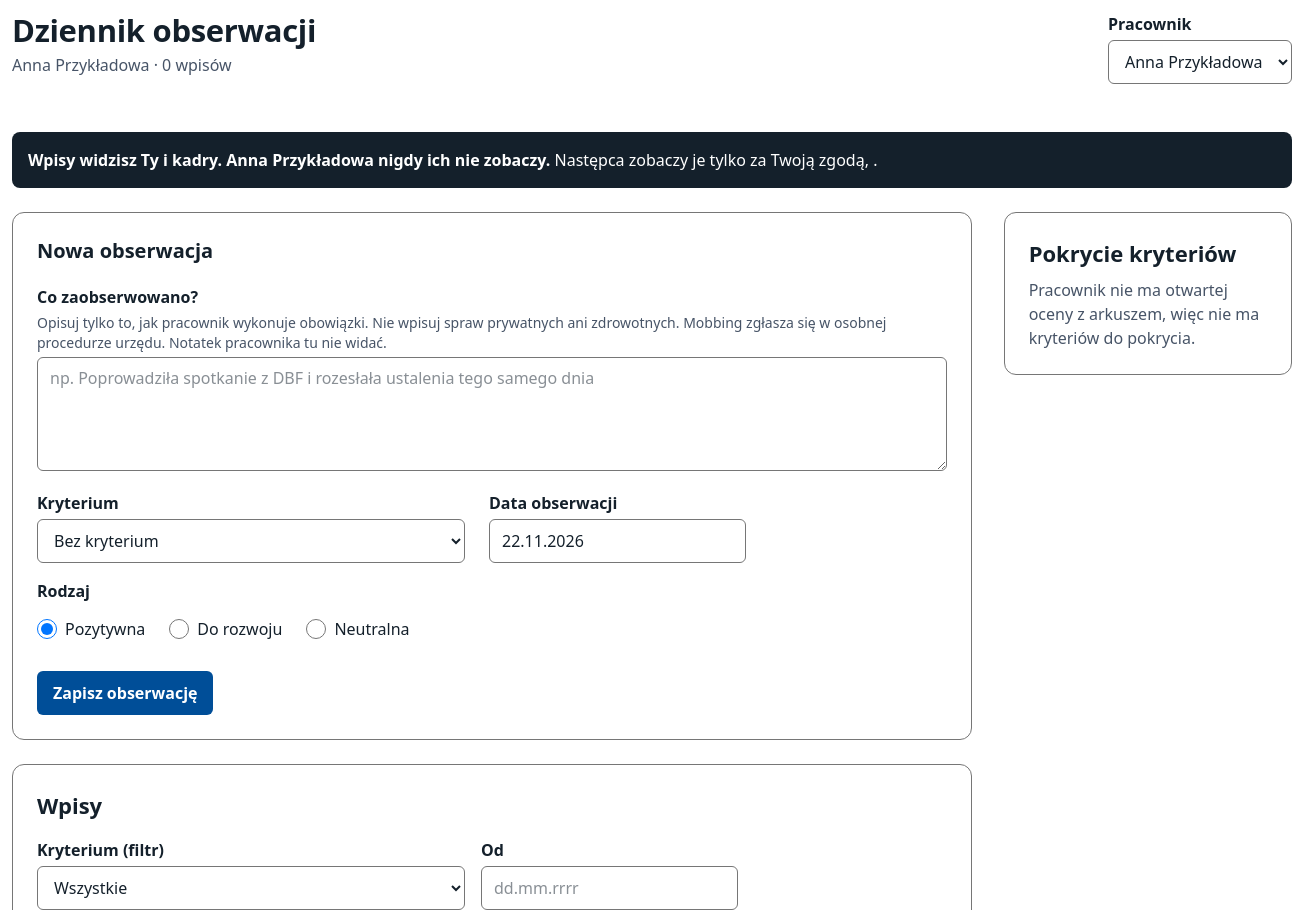
Test case: ObservationsPage › shows a backend error and keeps the typed text
This screenshot has width=1304, height=910.
Type "Tekst" into the text box labelled "Co zaobserwowano?" at (492, 414), box 37,357 -> 947,471
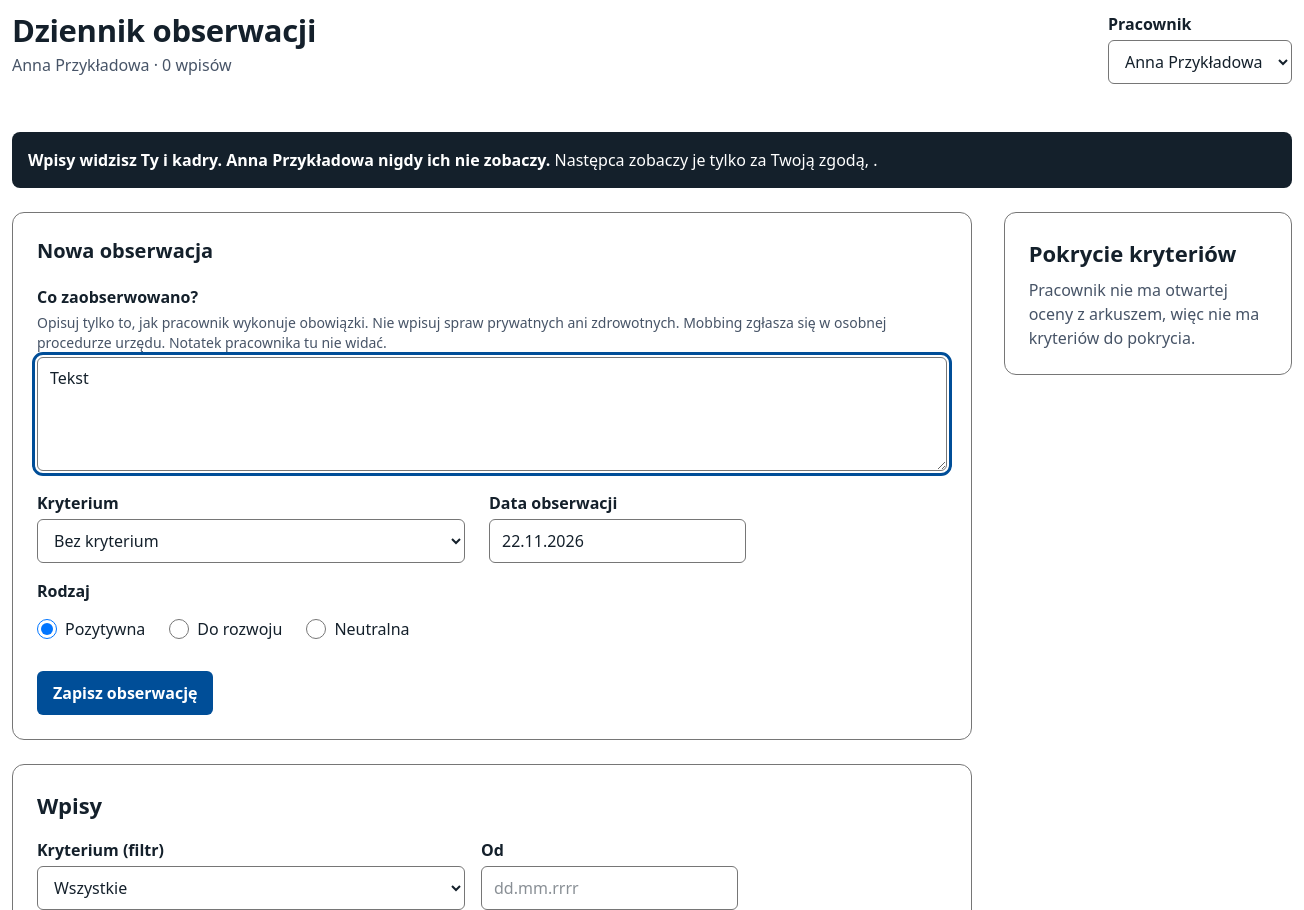
Click the button "Zapisz obserwację" at (125, 693), box 37,671 -> 214,715
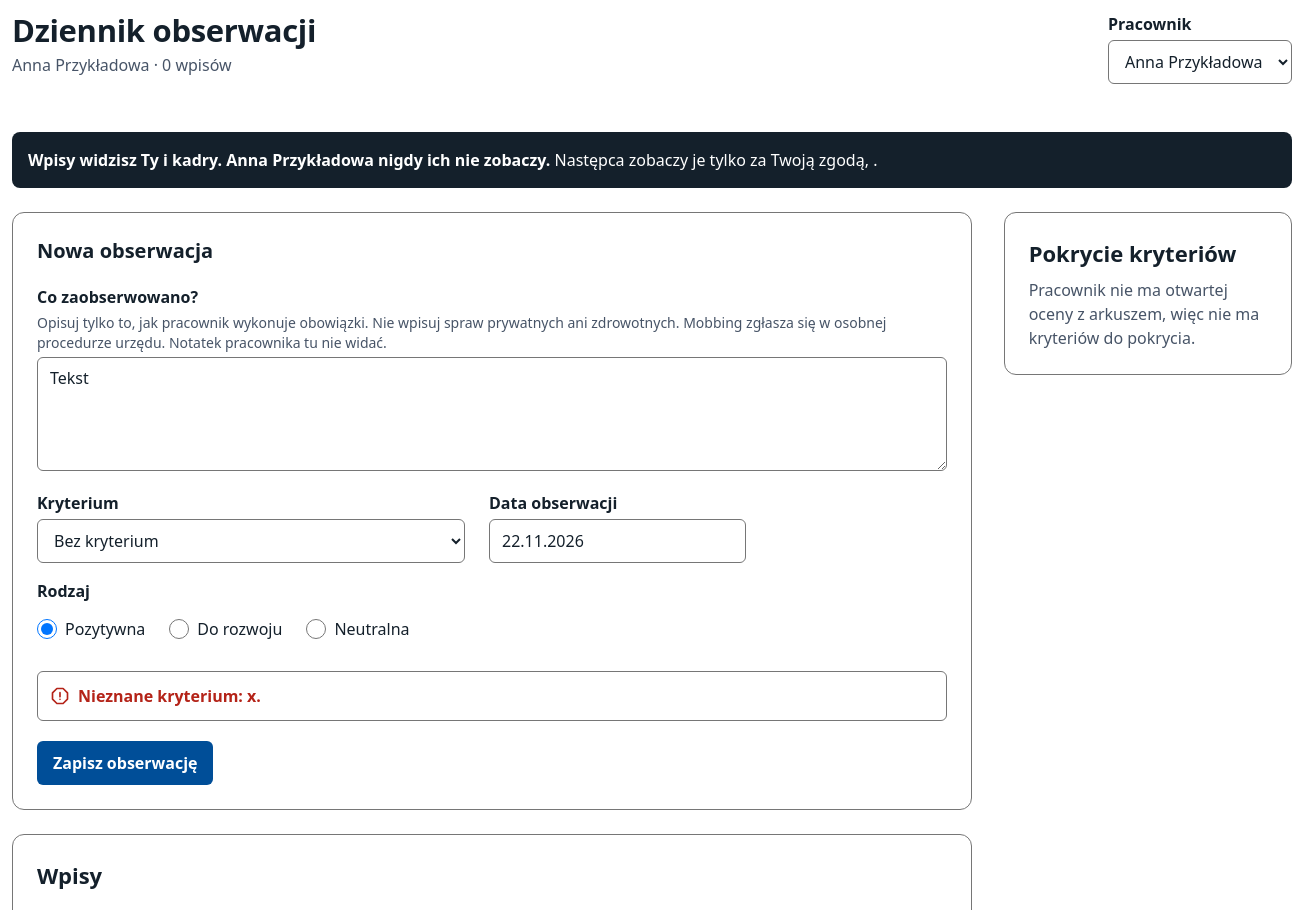
Check: the message reads "Nieznane kryterium: x.", box 78,685 -> 261,707
